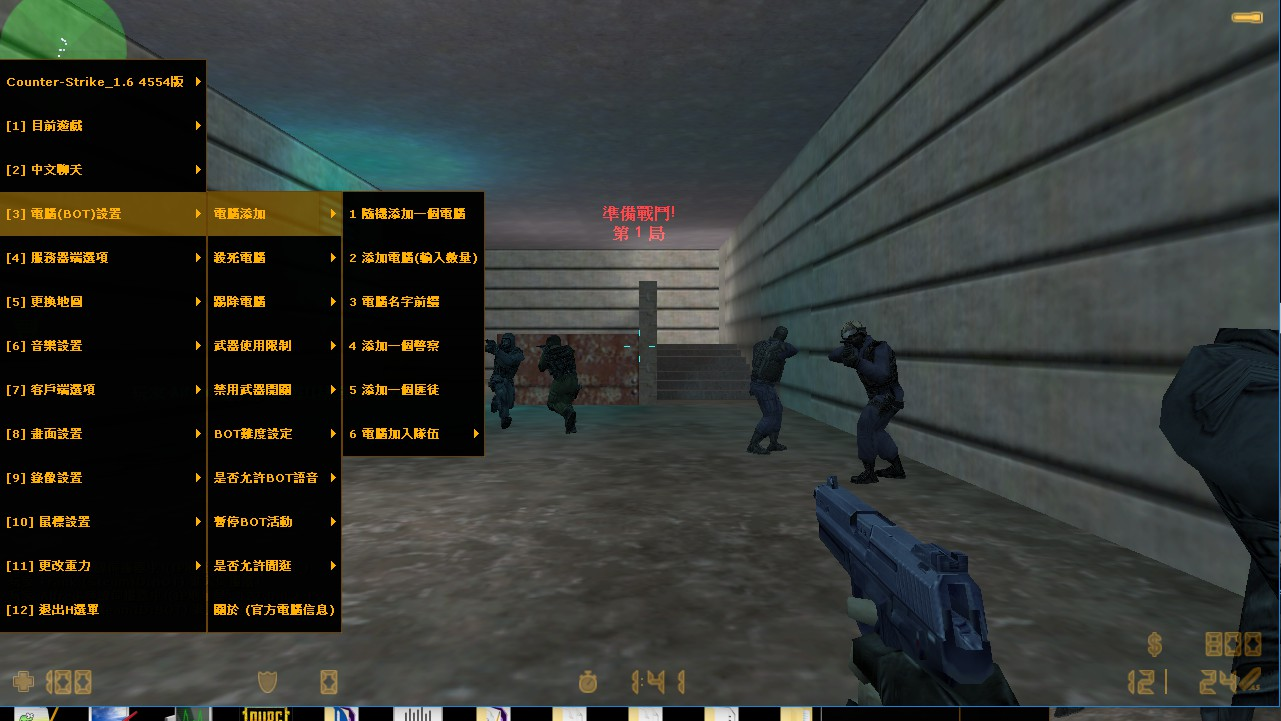person: (830, 317, 906, 479), (744, 328, 797, 458), (537, 332, 587, 436), (485, 325, 529, 430), (569, 407, 570, 408)
